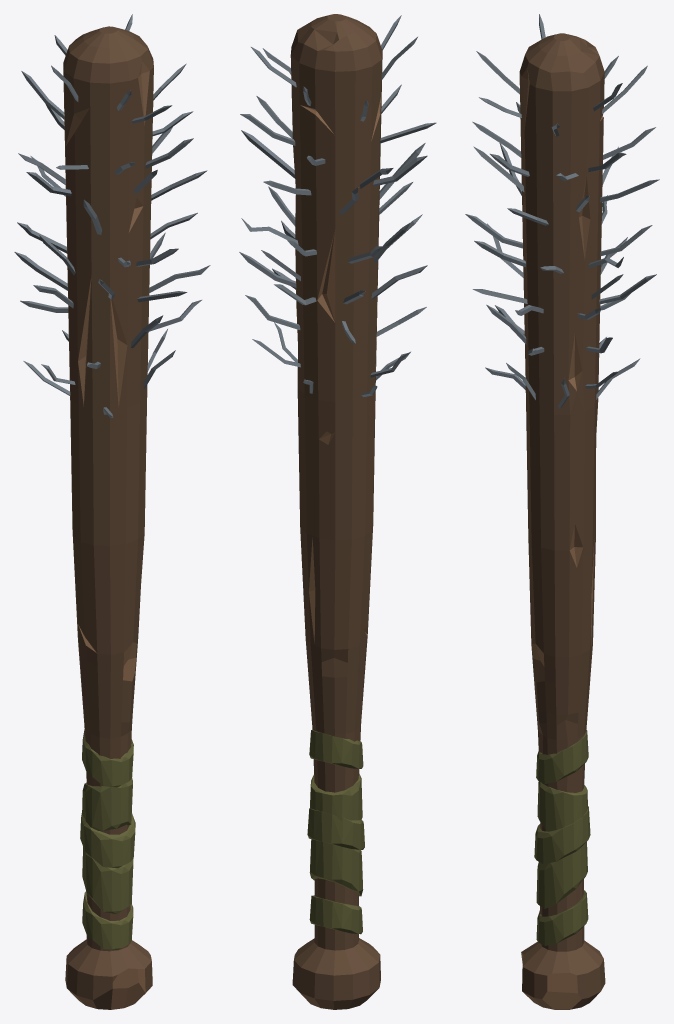
File: bat.glb
3 views of the same model, side by side, from view 1: azimuth 30°, elevation 25°; view 2: azimuth 150°, elevation 25°; view 3: azimuth 270°, elevation 25° (orthographic).
Visible parts, largest first — view 1: SM_Baseball_bat(Nails_reinforced); view 2: SM_Baseball_bat(Nails_reinforced); view 3: SM_Baseball_bat(Nails_reinforced).
Part boxes in pixels (box(x1,y1,x2,y2)): SM_Baseball_bat(Nails_reinforced): box(14, 14, 210, 1009); SM_Baseball_bat(Nails_reinforced): box(239, 14, 436, 1009); SM_Baseball_bat(Nails_reinforced): box(465, 14, 659, 1009).
Size of the model in its own units: 0.1899 by 1.04 by 0.1917.
Materials: 1 (1 with a texture image).
